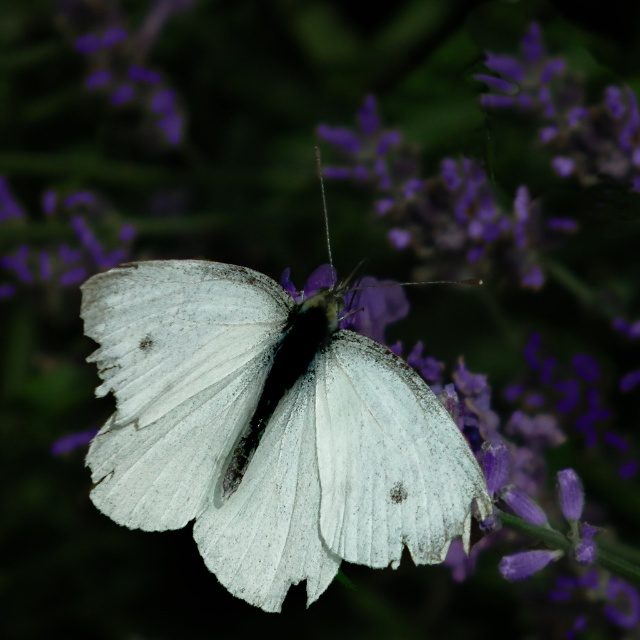Butterfly: (78, 145, 496, 614)
